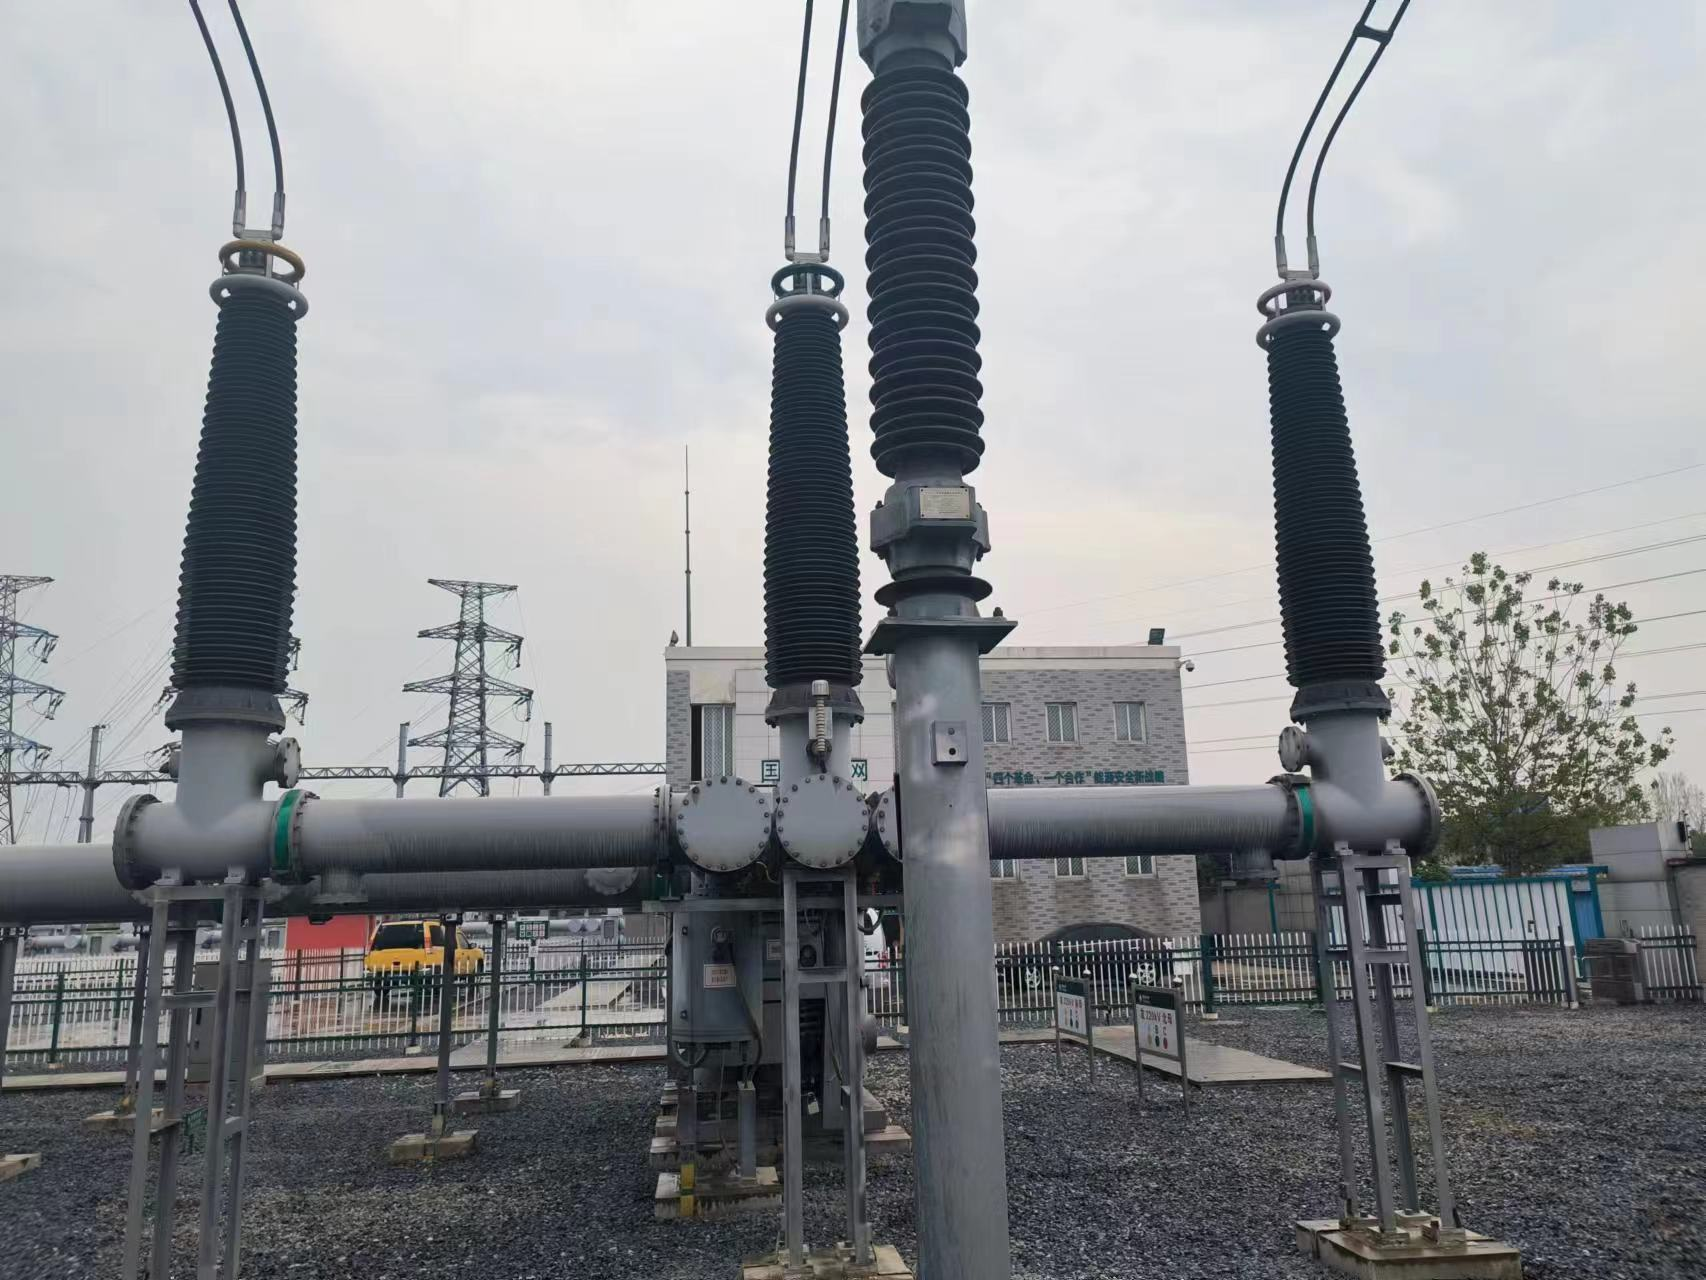Voltage transformer: (168, 241, 312, 691), (1257, 278, 1389, 699), (743, 264, 871, 687)
